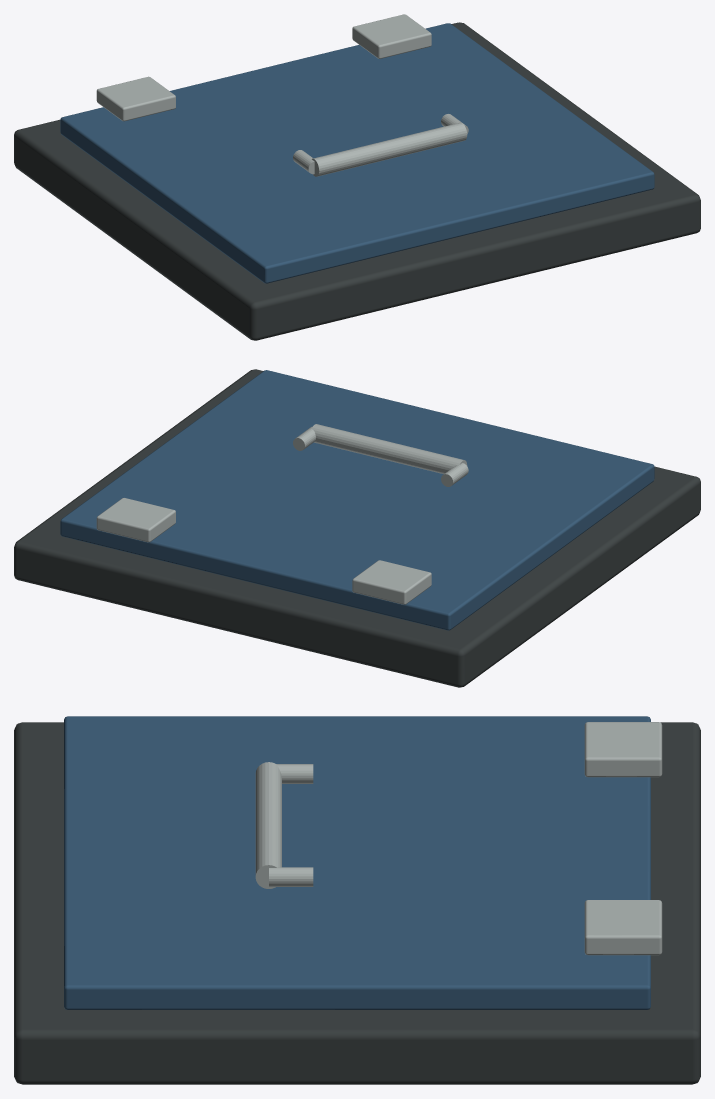
The model's file is canal-boats-and-lock-operations-canal-boats-and-lock-o-a36adc18__31645.glb.
The picture shows the model from 3 angles, top to bottom: view 1: azimuth 30°, elevation 25°; view 2: azimuth 150°, elevation 25°; view 3: azimuth 270°, elevation 25°; orthographic projection. The views are drawn at different scales.
Visible parts, largest first — view 1: canal-boats-and-lock-operations-stern-deck-hatch; view 2: canal-boats-and-lock-operations-stern-deck-hatch; view 3: canal-boats-and-lock-operations-stern-deck-hatch.
Boxes of the visible parts, <box> form: canal-boats-and-lock-operations-stern-deck-hatch: <box>14,14,700,340</box>; canal-boats-and-lock-operations-stern-deck-hatch: <box>14,369,700,687</box>; canal-boats-and-lock-operations-stern-deck-hatch: <box>14,716,700,1084</box>.
Bounding box in the file's own units: 0.67 × 0.117 × 0.62.
